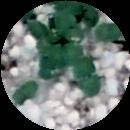Basil: (4, 79, 39, 109), (78, 59, 103, 94), (94, 23, 130, 46), (56, 12, 84, 36), (27, 18, 51, 45), (54, 39, 86, 59), (38, 57, 59, 83)
